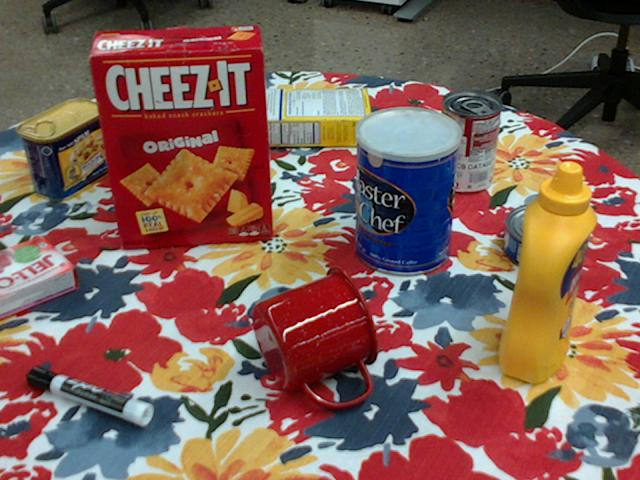cracker_box: (89, 25, 271, 246)
gelatin_box: (0, 236, 79, 320)
large_marker: (25, 364, 152, 425)
master_chef_can: (355, 107, 461, 277)
mug: (251, 266, 381, 408)
mustard_bottle: (498, 161, 596, 383)
potted_meat_can: (17, 97, 110, 200)
sugar_box: (229, 89, 370, 148)
tomato_soup_can: (437, 90, 501, 194)
tuna_fish_can: (504, 205, 590, 275)
